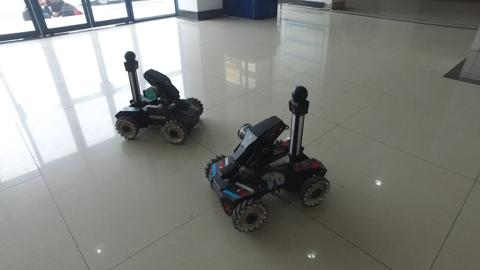chariot: (202, 80, 332, 232), (111, 48, 205, 146)
